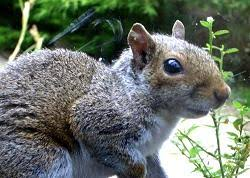Ardilla: (67, 16, 234, 167)
